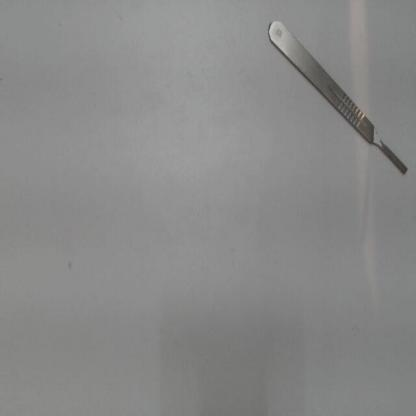No.4 BP Handle: (259, 4, 414, 198)
